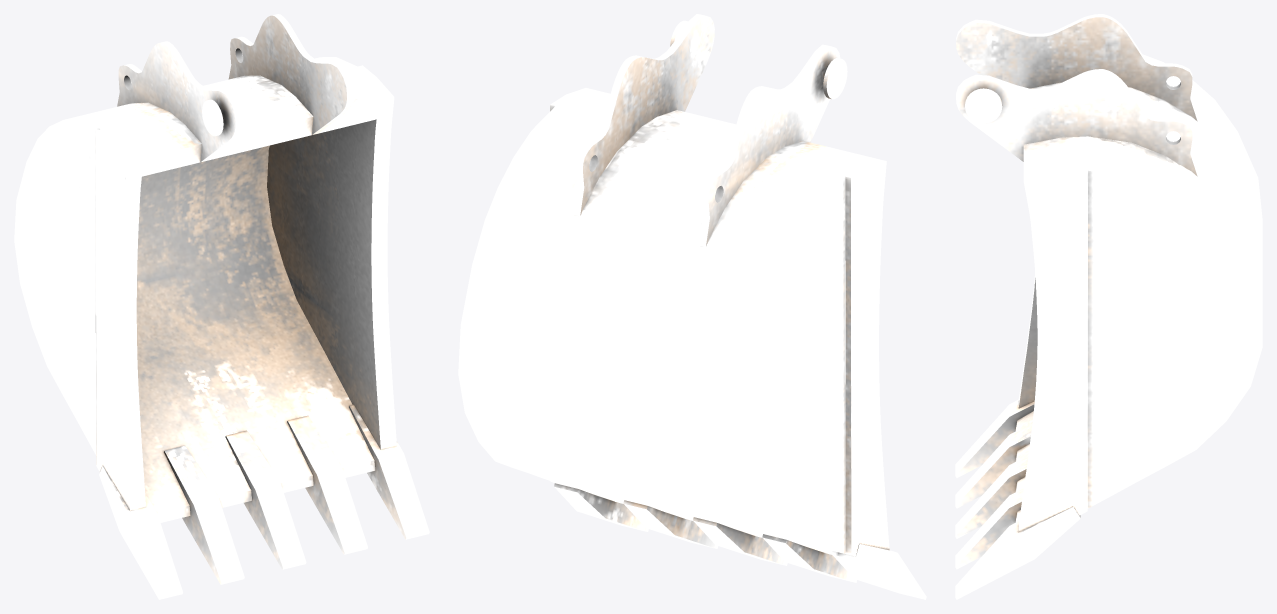
The model's file is bucket.FBX.
3 renders of one model, left to right at view 1: azimuth 30°, elevation 25°; view 2: azimuth 150°, elevation 25°; view 3: azimuth 270°, elevation 25°, orthographic. The views are drawn at different scales.
Visible parts, largest first — view 1: tool_hoe; view 2: tool_hoe; view 3: tool_hoe.
Boxes of the visible parts, x1,y1,x2,y2 form: tool_hoe: (14,14,429,599); tool_hoe: (458,14,926,599); tool_hoe: (955,14,1262,599).
Bounding box in the file's own units: 8.31 × 14.15 × 8.04.
